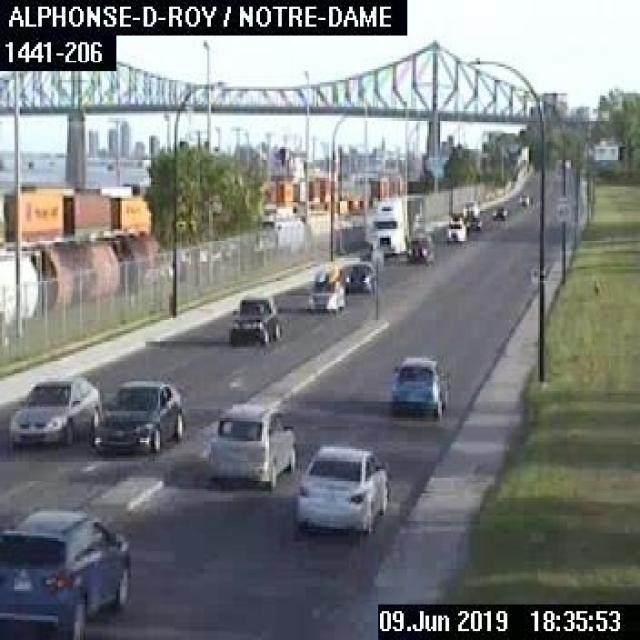vehicle: (0, 504, 133, 638), (293, 443, 387, 535), (208, 399, 293, 486), (90, 378, 182, 456), (5, 371, 102, 444), (367, 189, 427, 257), (388, 354, 448, 417), (229, 291, 282, 342), (302, 258, 347, 311), (340, 259, 376, 294), (404, 232, 431, 262), (443, 212, 466, 242), (489, 200, 509, 218), (462, 212, 481, 230), (460, 197, 478, 215), (516, 189, 533, 207)
